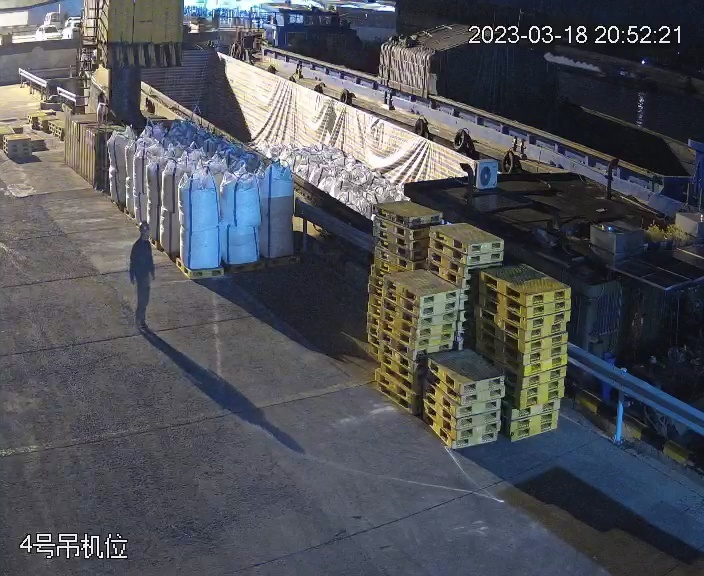head: (131, 222, 153, 259)
helmet: (136, 222, 150, 232)
people: (129, 220, 157, 329)
